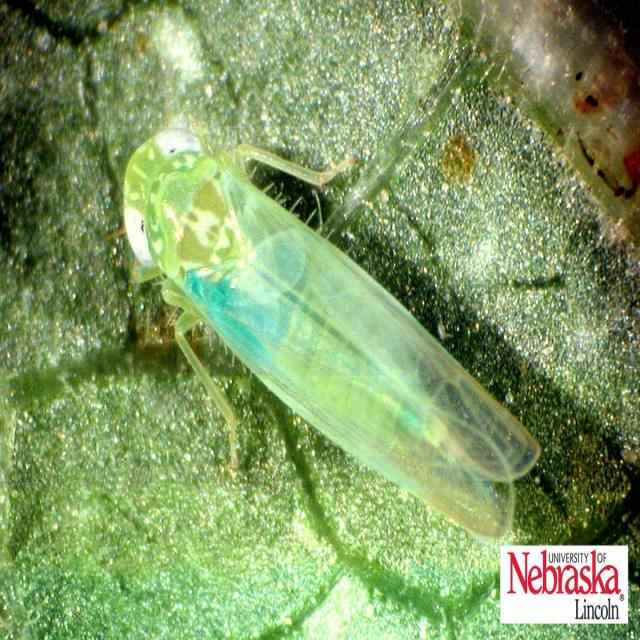Yechan: (100, 110, 549, 542)
